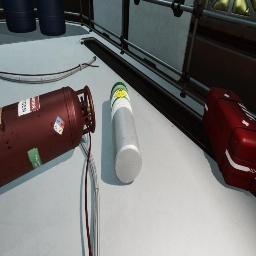0: (110, 82, 142, 183)
FirstAidBox ,: (202, 86, 256, 192)
NitrogenTank ,: (0, 85, 96, 188)
